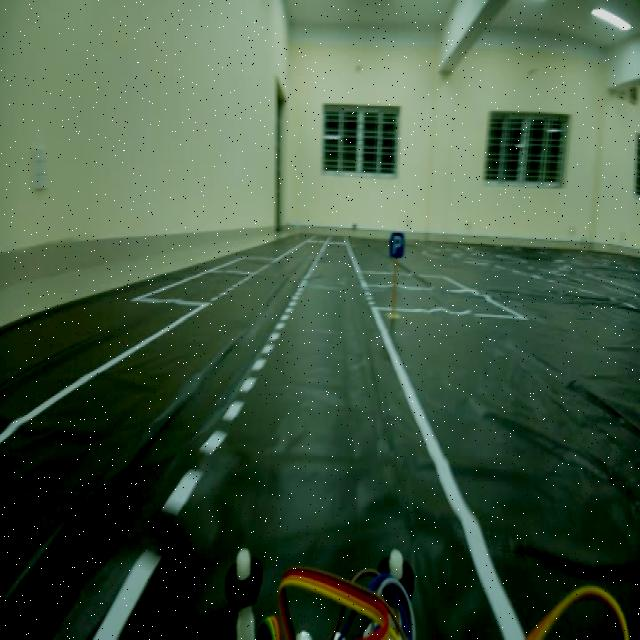parking: (384, 227, 406, 270)
